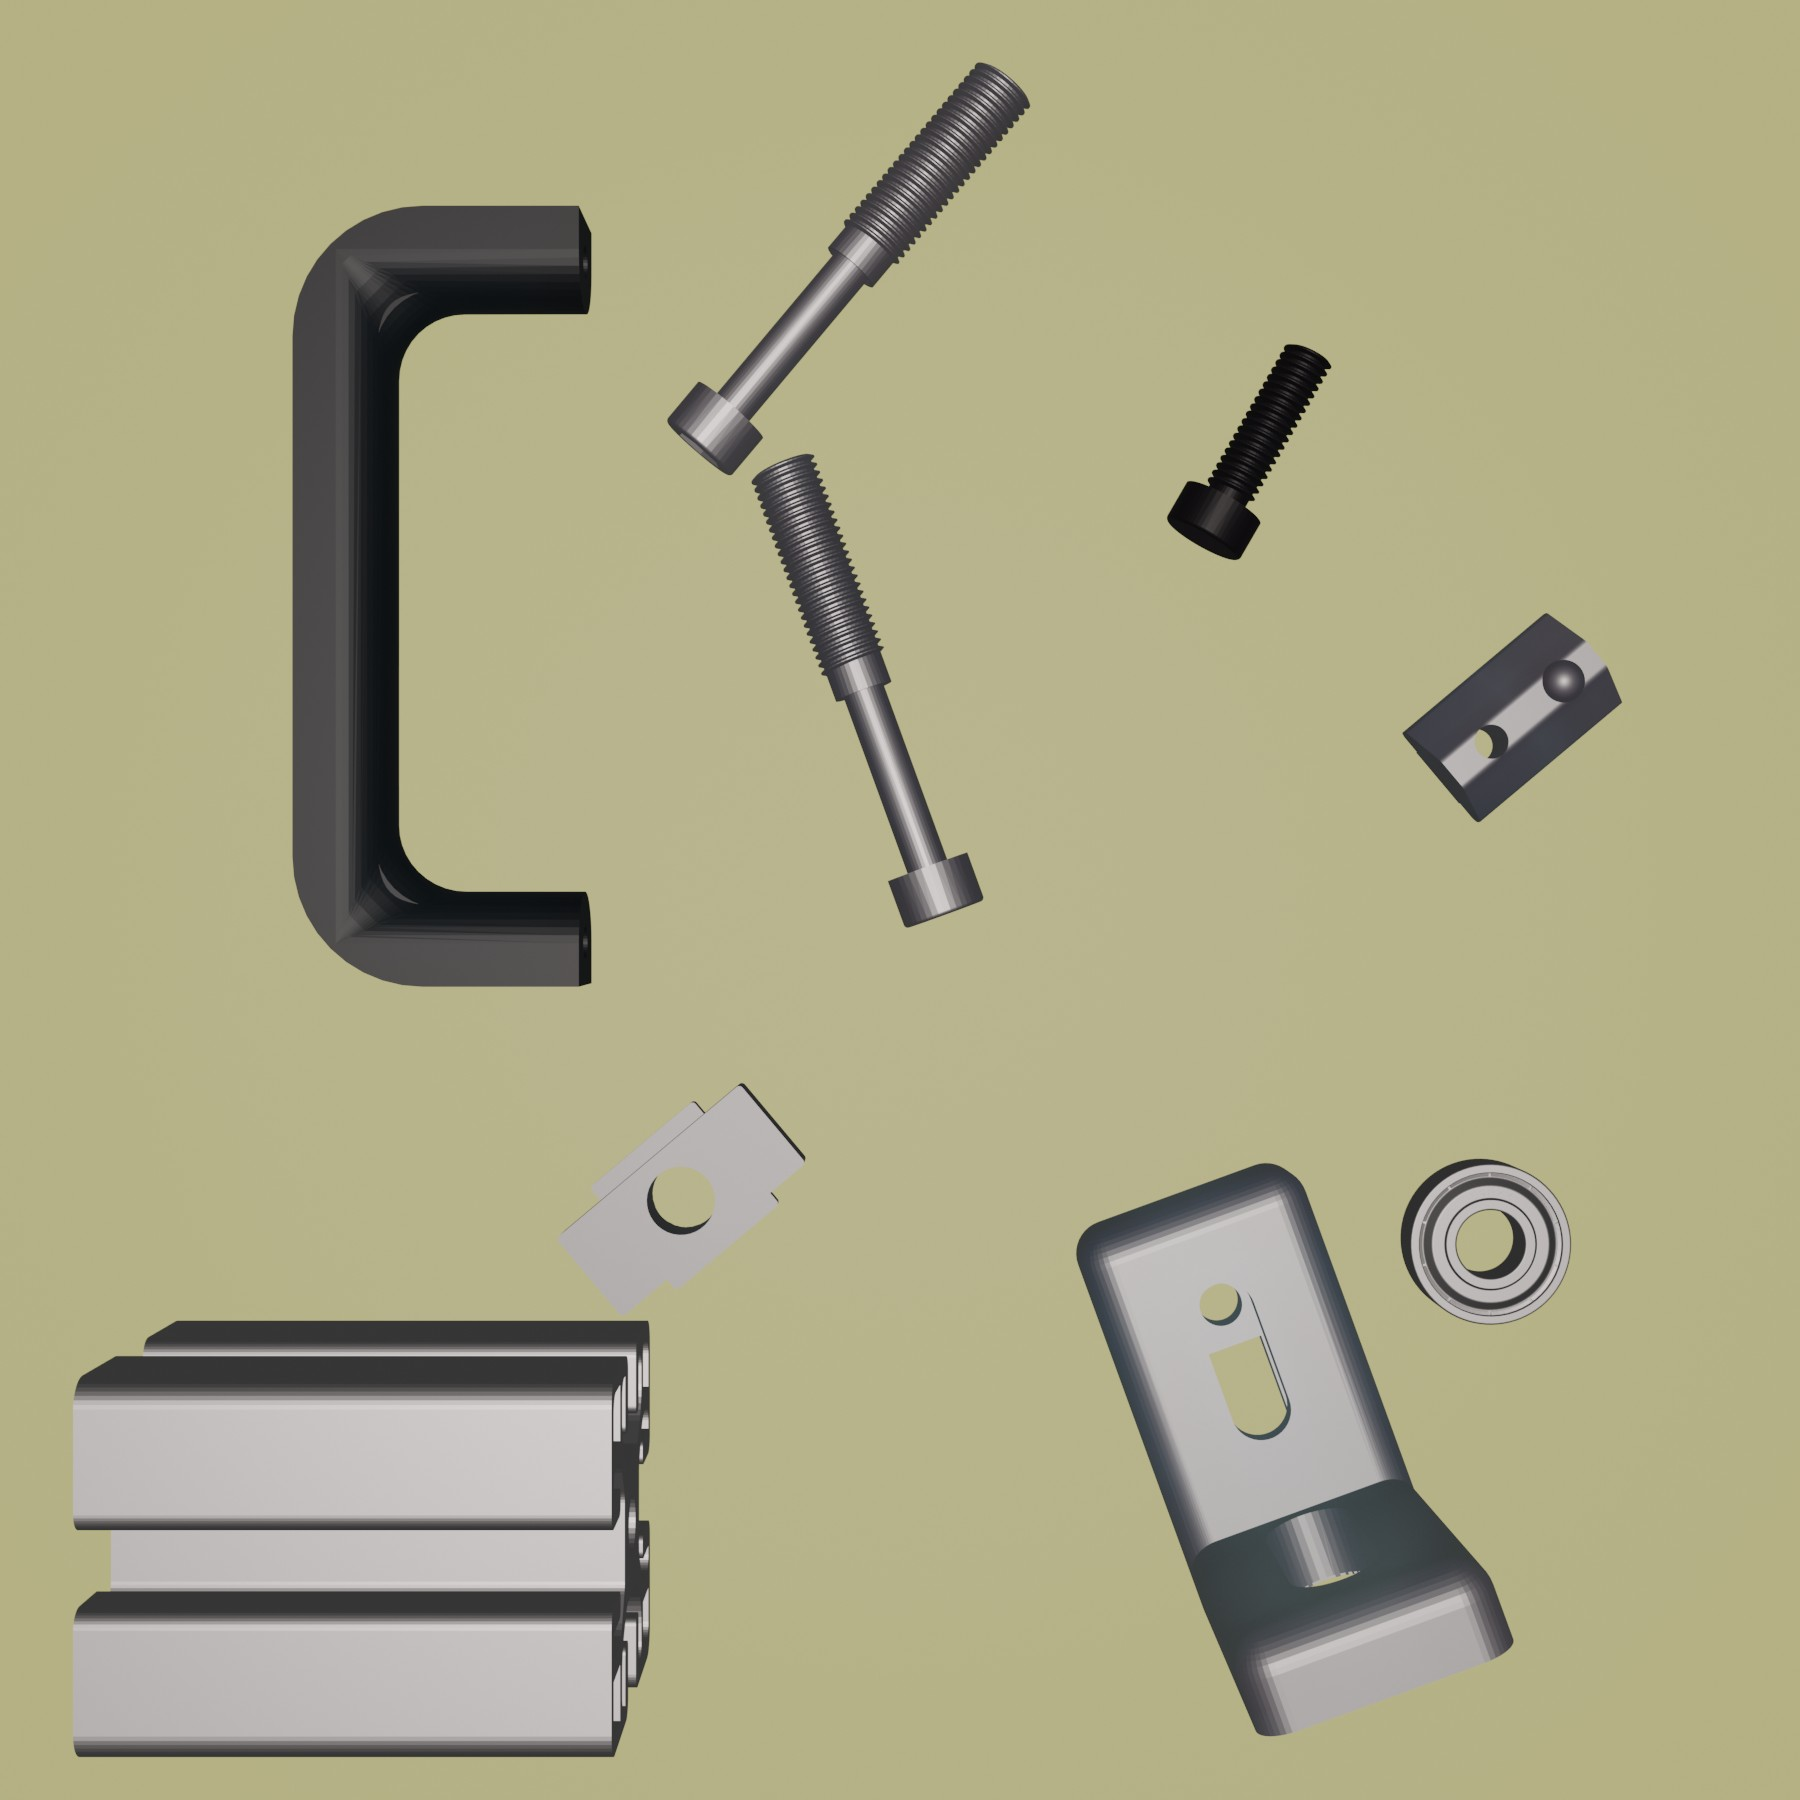Aluminium Extension: (63, 1310, 656, 1760)
Ball Bearing: (1398, 1154, 1574, 1329)
Multiwinkel: (1073, 1159, 1516, 1739)
Pull Handle: (285, 199, 597, 991)
Shoulder Socket Head Cap Screw: (664, 58, 1030, 478), (747, 447, 986, 935)
Socket Head Cap Screw: (1165, 340, 1335, 564)
T Nut Square: (551, 1076, 808, 1315)
T Spring Nut: (1401, 608, 1624, 824)
